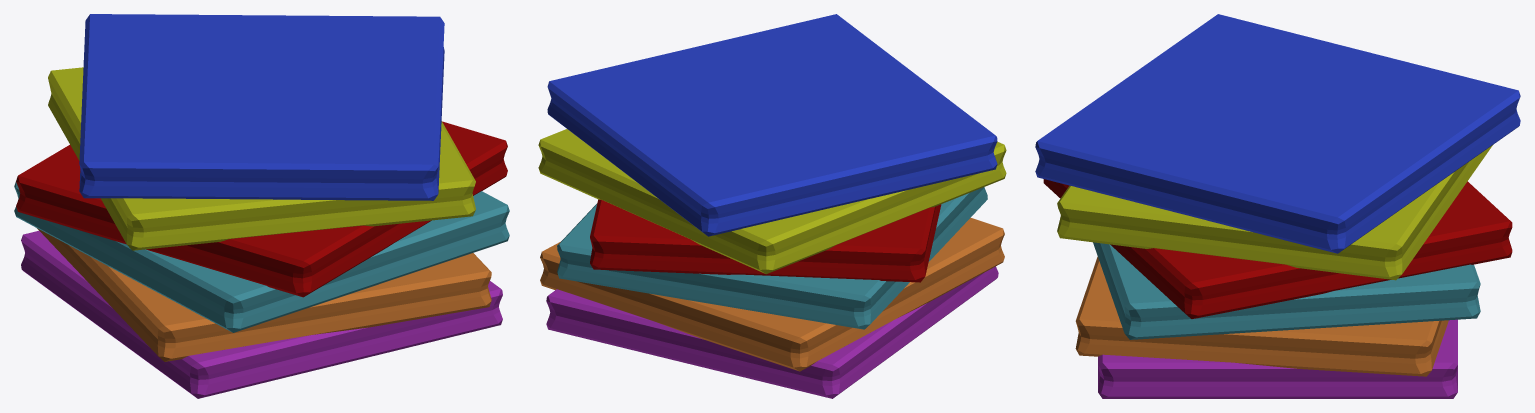
The model's file is Stapelkleding.fbx.
The picture shows the model from 3 angles, left to right: view 1: azimuth 30°, elevation 25°; view 2: azimuth 150°, elevation 25°; view 3: azimuth 270°, elevation 25°; orthographic projection. The views are drawn at different scales.
Visible parts, largest first — view 1: Cube.005; view 2: Cube.005; view 3: Cube.005.
Boxes of the visible parts, x1,y1,x2,y2 form: Cube.005: (14,14,509,398); Cube.005: (538,14,1006,398); Cube.005: (1035,14,1520,398).
Bounding box in the file's own units: 244 × 116 × 244.
